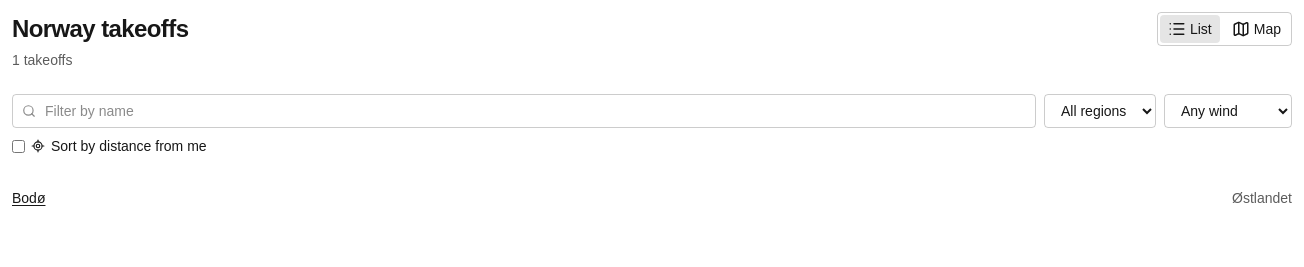
it: TakeoffDirectory — input-driven filtering › shows a distinct empty state for a real zero-match search, not the loading or error state
Check: the link "Bodø" is shown, box x1=12 y1=188 x2=46 y2=208
Type "zzznomatchxyz" into the field named "takeoff name" at (524, 111), box x1=12 y1=94 x2=1036 y2=128
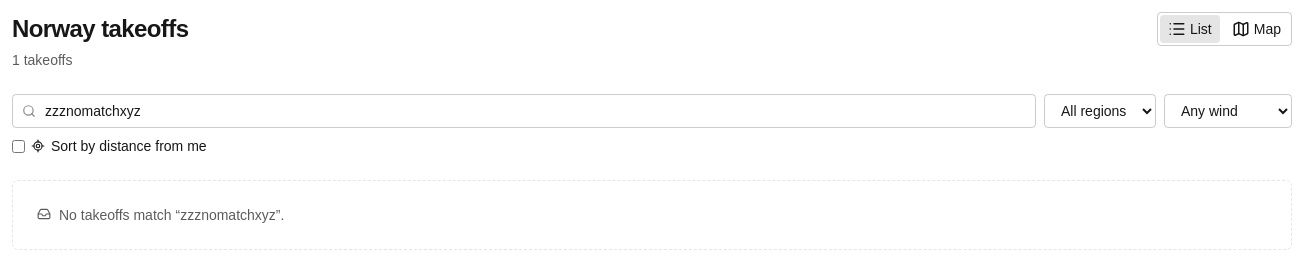
Check: the text "No takeoffs match “zzznomatchxyz”." is shown, box x1=59 y1=205 x2=284 y2=225
